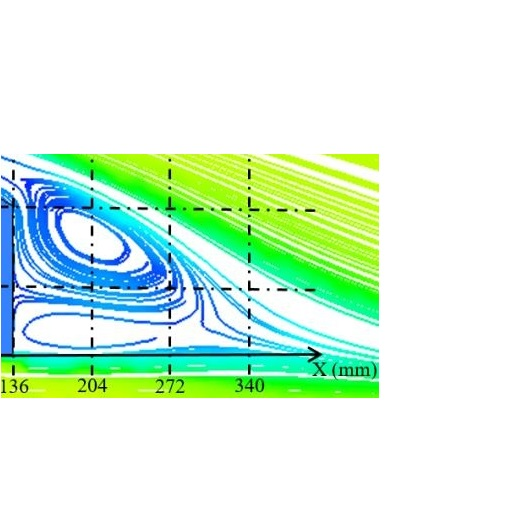vortox: (23, 177, 184, 312)
